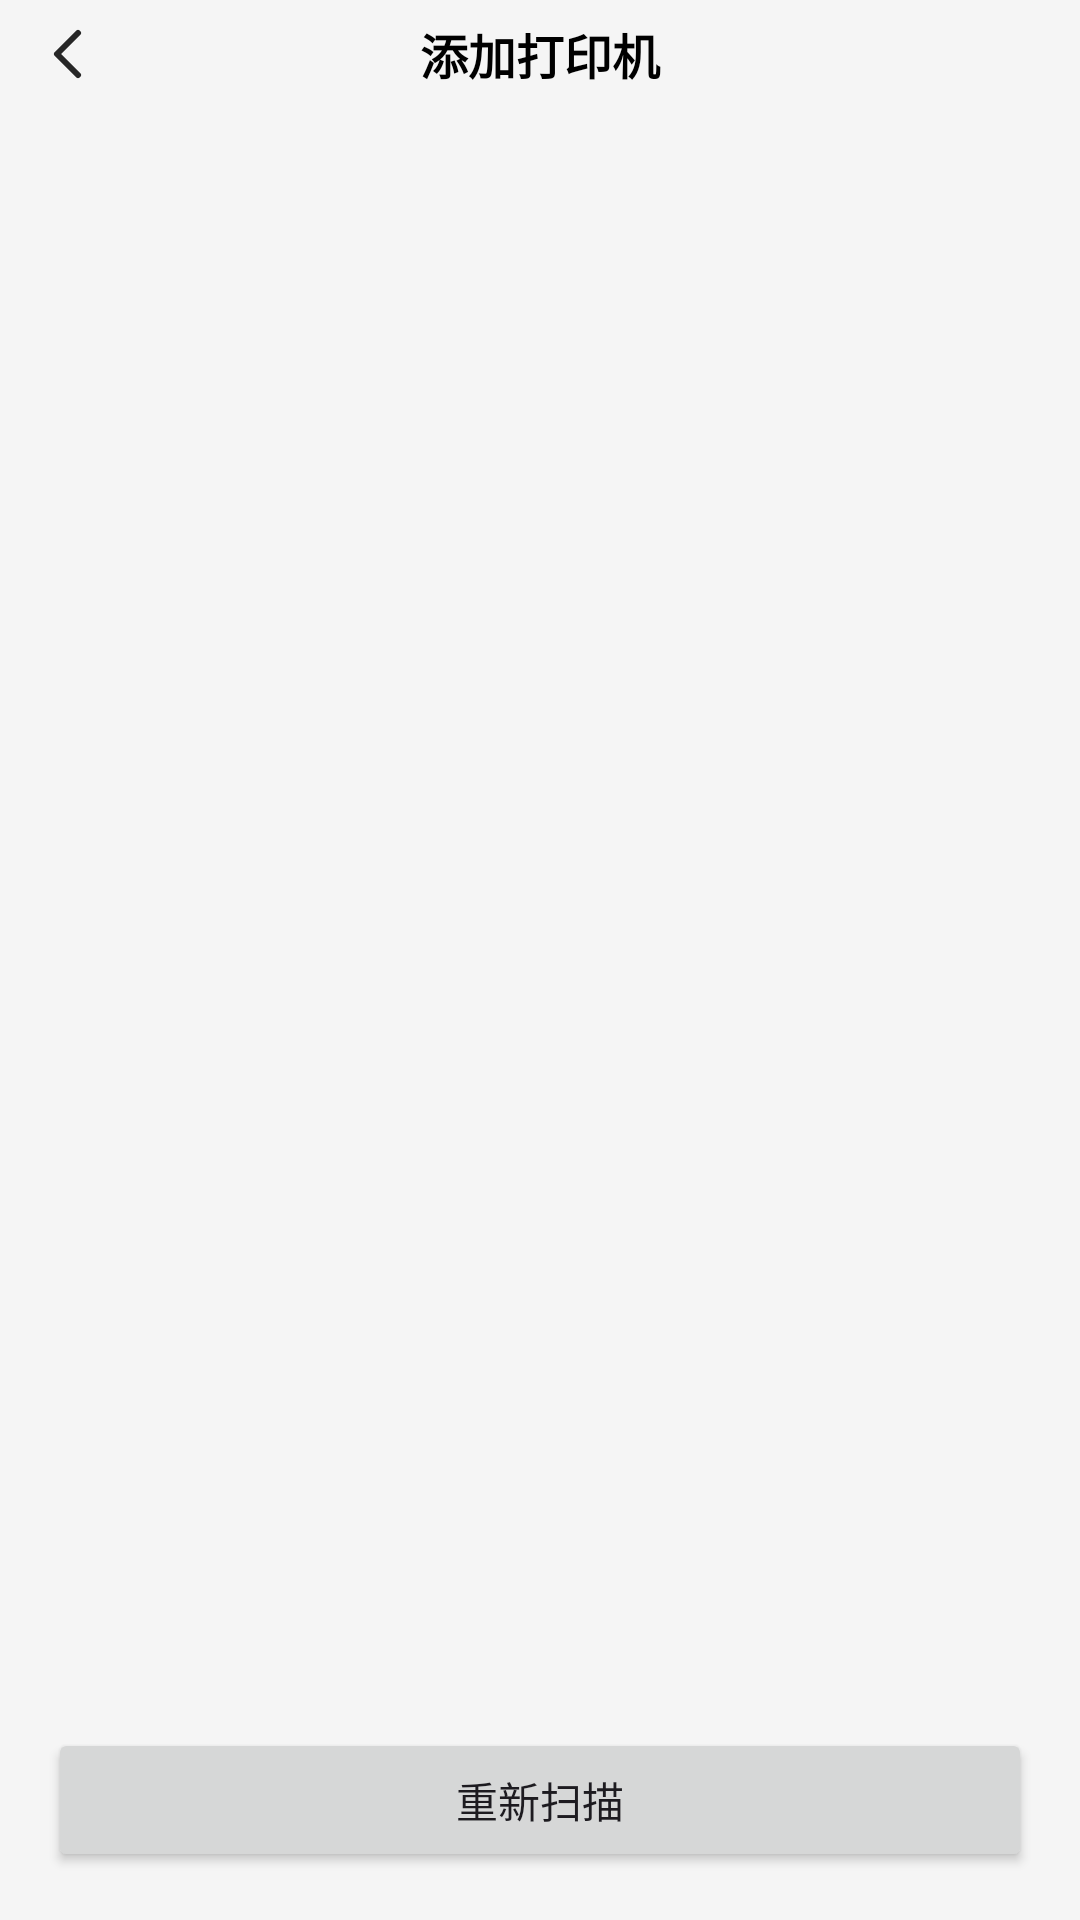

Icon click points for this 1080w x 1920h phone screenshot, format [x,y]:
back: [67,54]
